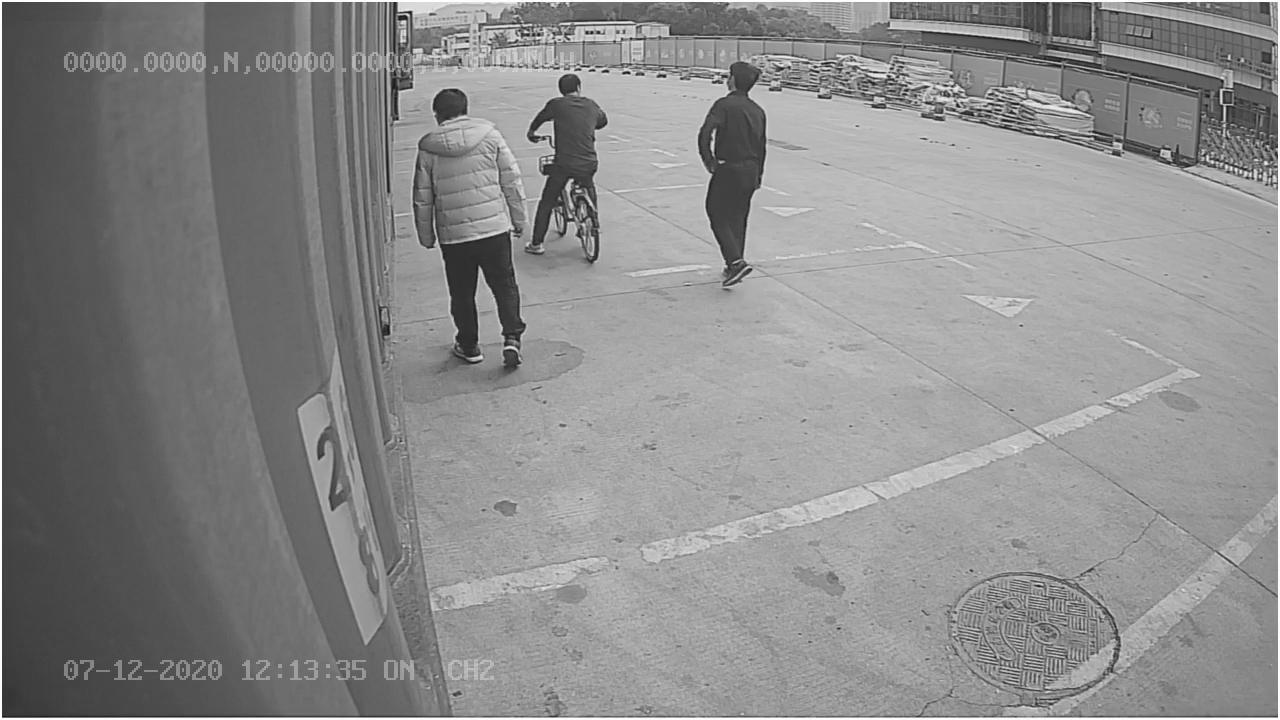person: (409, 79, 530, 373), (697, 57, 770, 290)
